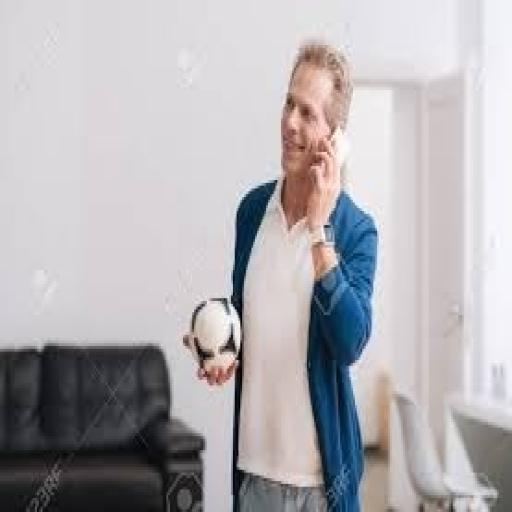calling: (183, 37, 381, 509)
